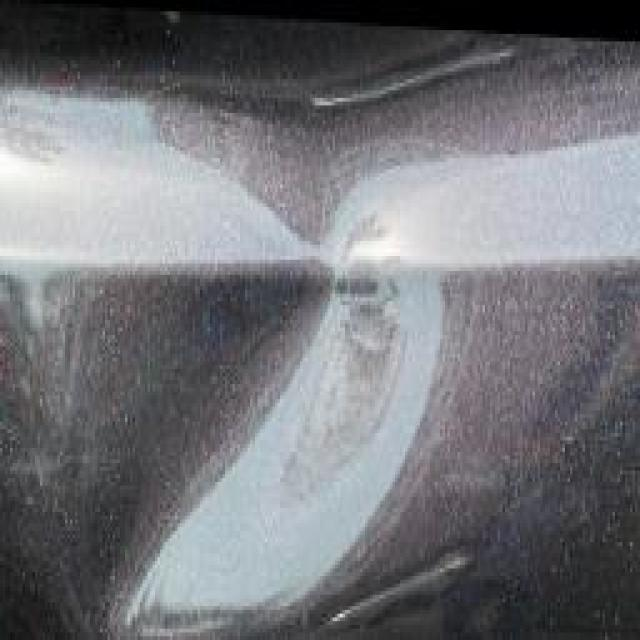Door: (5, 49, 640, 640)
